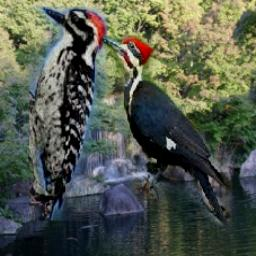Woodpecker: (101, 37, 231, 227), (28, 8, 106, 222)
